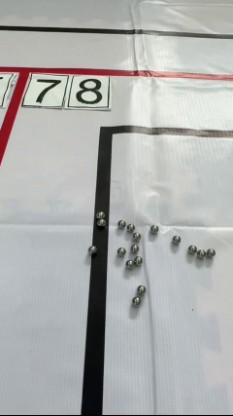ironball: (134, 280, 148, 298), (167, 229, 182, 245), (146, 219, 160, 236), (128, 295, 143, 308), (131, 249, 144, 263), (123, 255, 135, 270), (85, 242, 97, 255), (113, 216, 124, 230), (115, 243, 125, 258), (94, 206, 106, 217), (95, 215, 106, 227), (129, 231, 140, 243), (184, 243, 195, 255), (204, 245, 215, 257), (125, 219, 135, 230), (126, 243, 138, 252), (195, 249, 205, 258)
